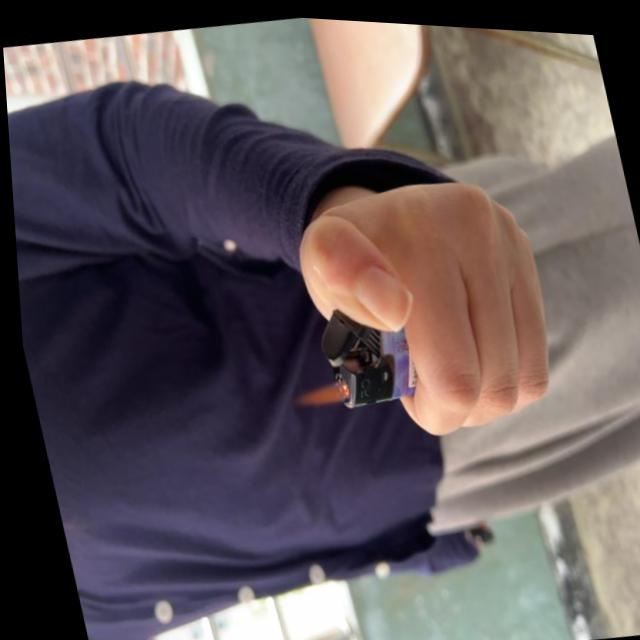Fire: (284, 370, 346, 409)
